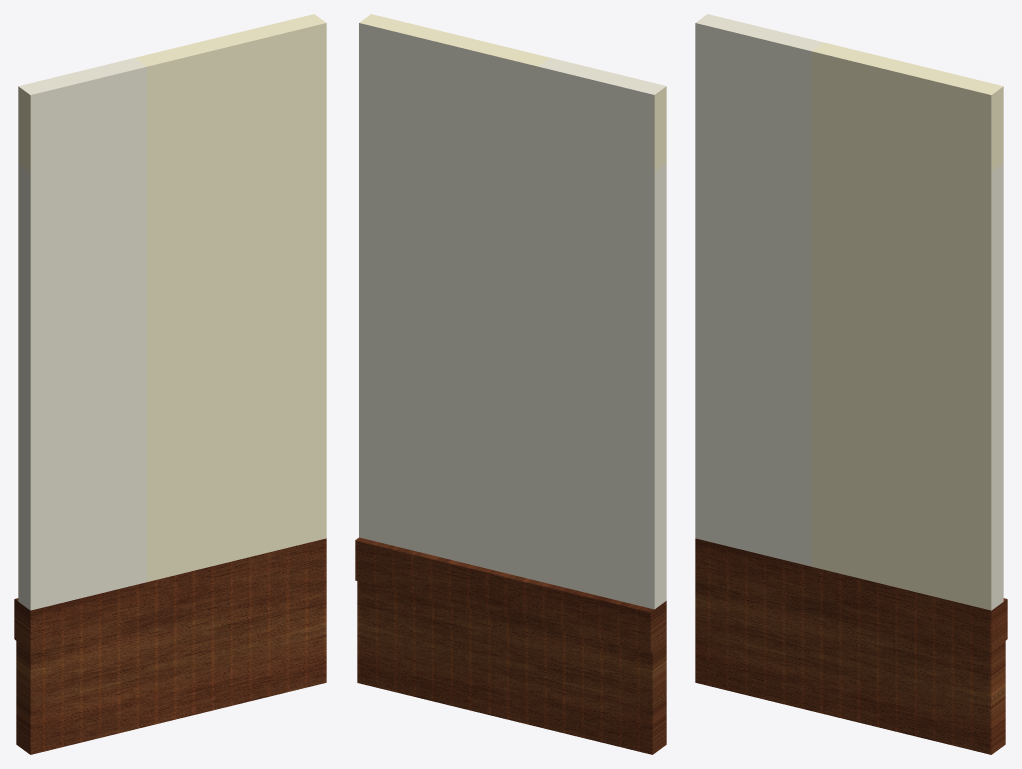
The model's file is doorwall_small.fbx.
3 views of the same model, side by side, from view 1: azimuth 30°, elevation 25°; view 2: azimuth 150°, elevation 25°; view 3: azimuth 330°, elevation 25° (orthographic).
Visible parts, largest first — view 1: pCube28; view 2: pCube28; view 3: pCube28.
Boxes of the visible parts, left/top/right/bottom form: pCube28: left=14, top=14, right=326, bottom=754; pCube28: left=355, top=14, right=666, bottom=754; pCube28: left=695, top=14, right=1007, bottom=754.
Bounding box in the file's own units: 3.02 × 6.44 × 0.2846.
